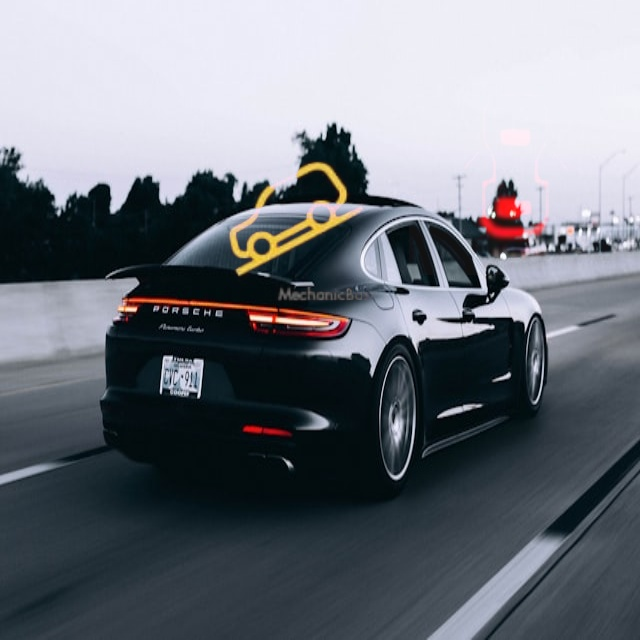symbol: (409, 62, 622, 275), (210, 134, 385, 309)
